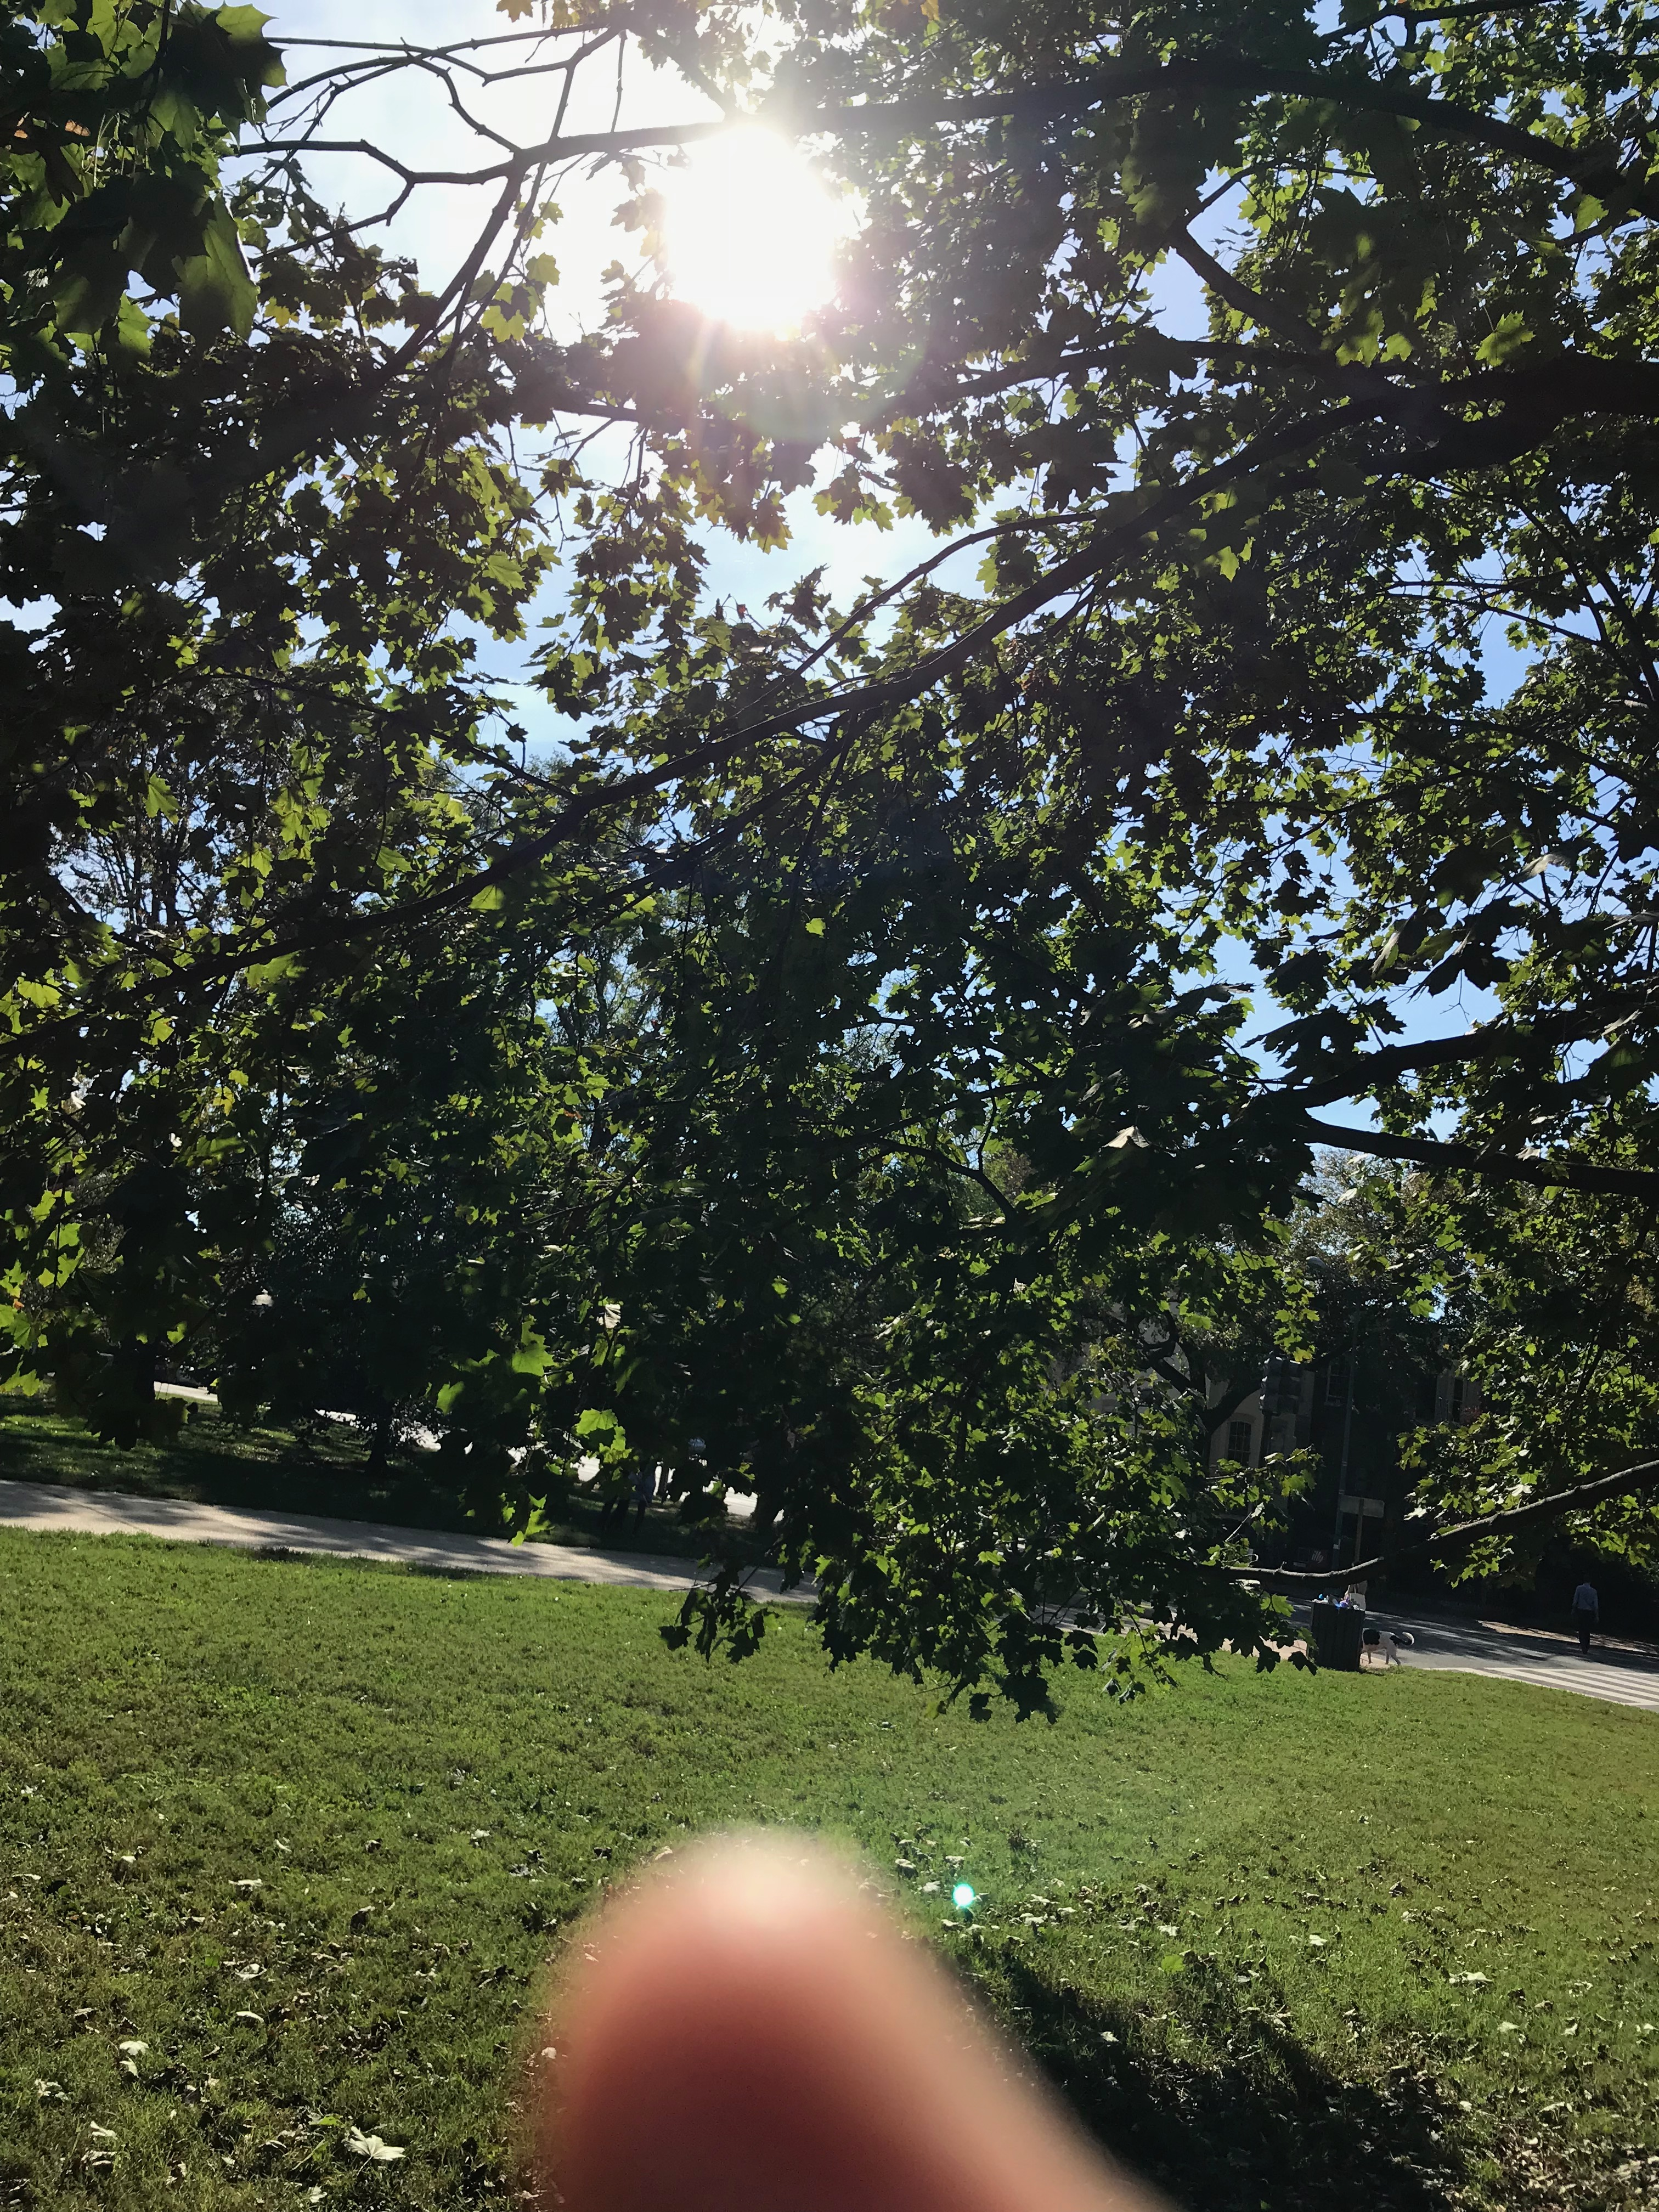flare: (951, 1881, 978, 1909)
